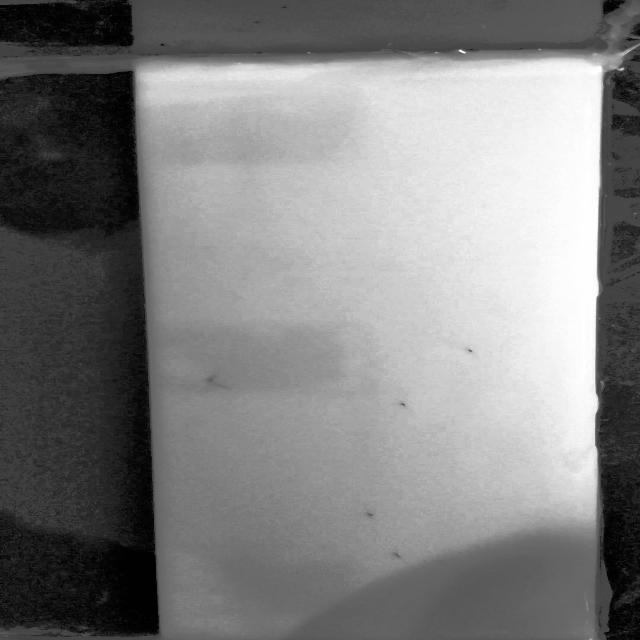shrimp: (208, 376, 232, 396), (458, 347, 478, 358), (390, 551, 408, 560), (362, 510, 379, 518), (395, 399, 412, 407)
